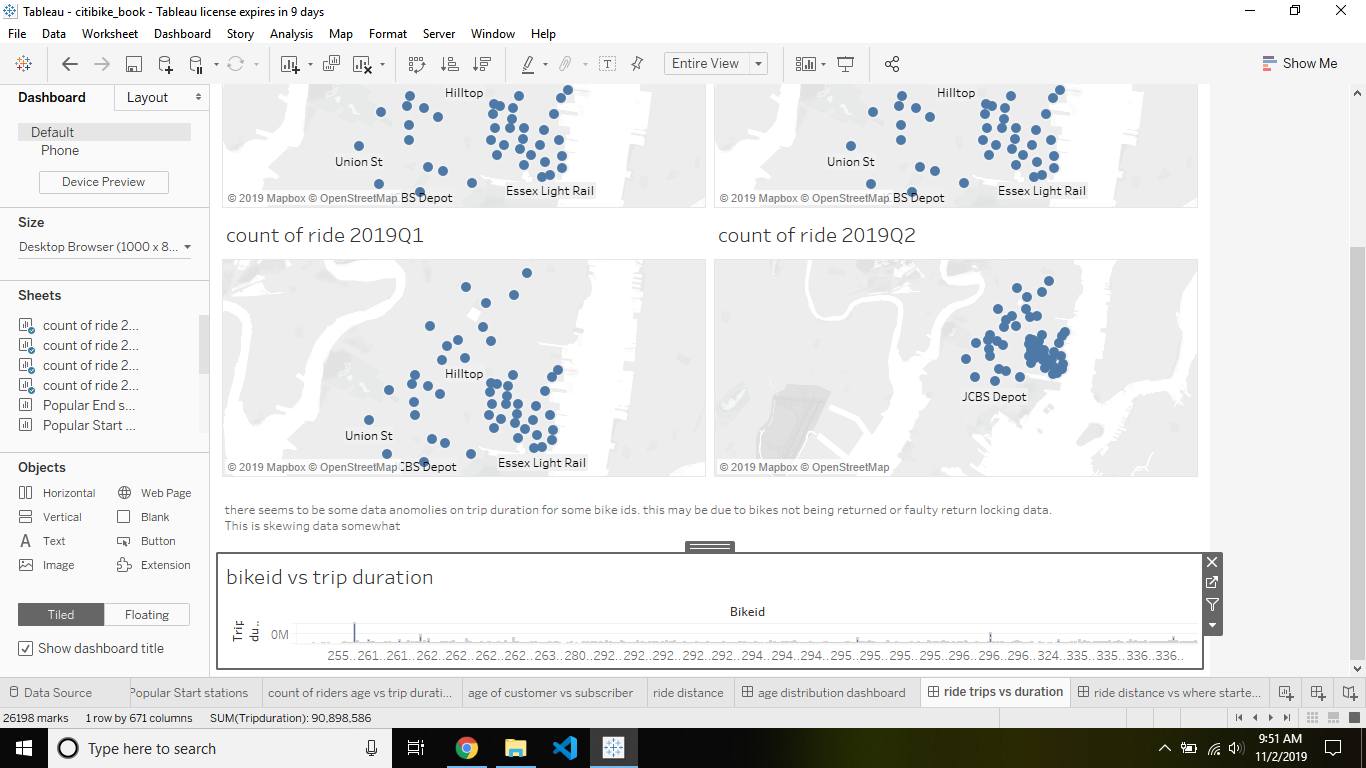

What the dashboard file says about the page in this screenshot:
{"tool":"tableau","page":{"name":"ride trips vs duration","canvas":[1000,800],"ordinal":2},"visuals":[{"type":"title","box":[8,8,984,37]},{"type":"worksheet","title":"count of ride 2018Q3","mark":"Automatic","rows":["start station latitude"],"cols":["start station longitude"],"box":[8,45,492,290.9]},{"type":"worksheet","title":"count of ride 2018Q4","mark":"Automatic","rows":["start station latitude"],"cols":["start station longitude"],"box":[500,45,492,290.9]},{"type":"worksheet","title":"count of ride 2019Q1","mark":"Automatic","rows":["start station latitude"],"cols":["start station longitude"],"box":[8,335.9,492,268.9]},{"type":"worksheet","title":"count of ride 2019Q2","mark":"Automatic","rows":["start station latitude"],"cols":["start station longitude"],"box":[500,335.9,492,268.9]},{"type":"text","box":[8,604.9,984,73.4]},{"type":"worksheet","title":"bikeid vs trip duration","mark":"Automatic","rows":["tripduration"],"cols":["bikeid"],"box":[8,678.2,984,113.8]}]}

Visuals, with their boxes on the page's 1000x800 design canvas (x1, y1, x2, y2). These are canvas units, not pixel positions in the 1366x768 screenshot, which may show the page scaled, cropped or inside an application window:
title: (8,8,992,45)
"count of ride 2018Q3" worksheet: (8,45,500,336)
"count of ride 2018Q4" worksheet: (500,45,992,336)
"count of ride 2019Q1" worksheet: (8,336,500,605)
"count of ride 2019Q2" worksheet: (500,336,992,605)
text: (8,605,992,678)
"bikeid vs trip duration" worksheet: (8,678,992,792)
